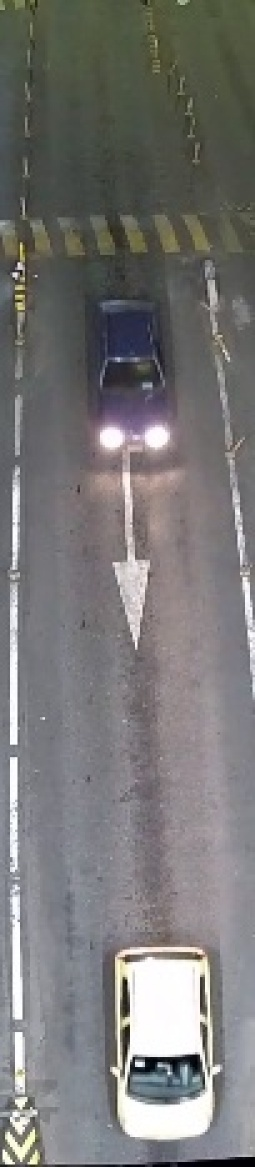car: (107, 945, 224, 1140), (86, 288, 189, 460)
